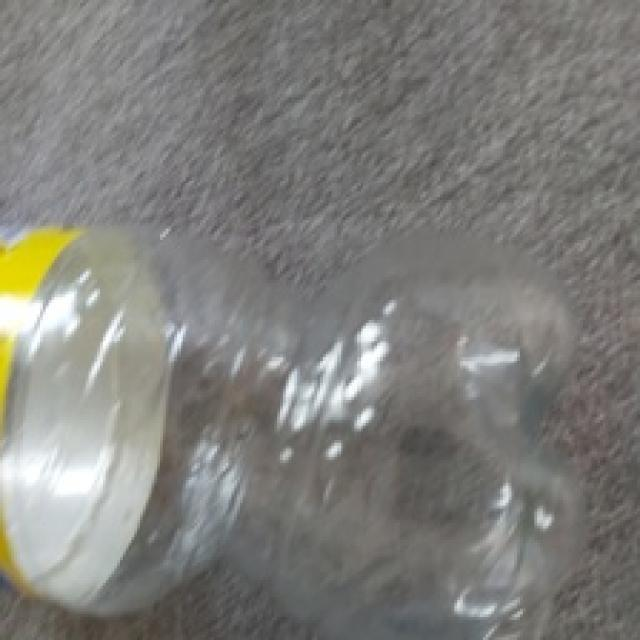Plastic: (0, 225, 590, 640)
